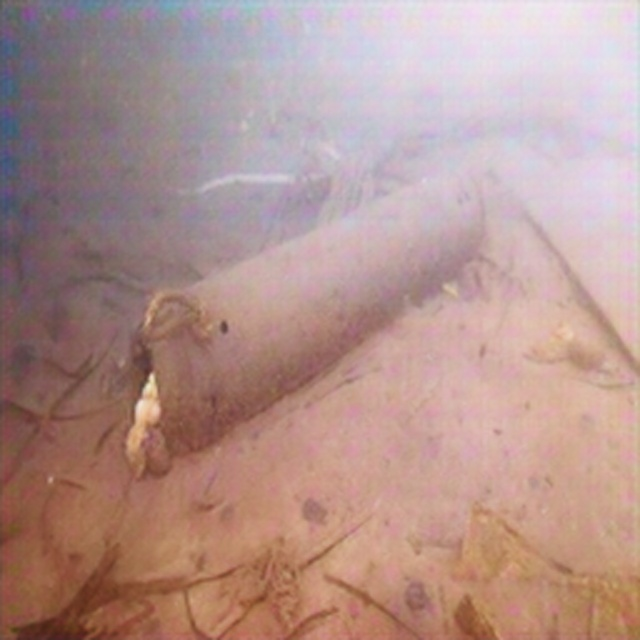mine: (128, 164, 485, 458)
